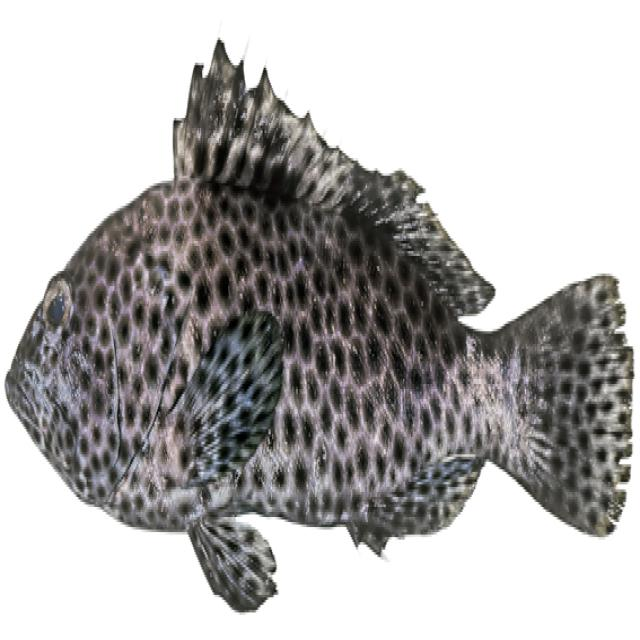ikan: (10, 20, 634, 597)
